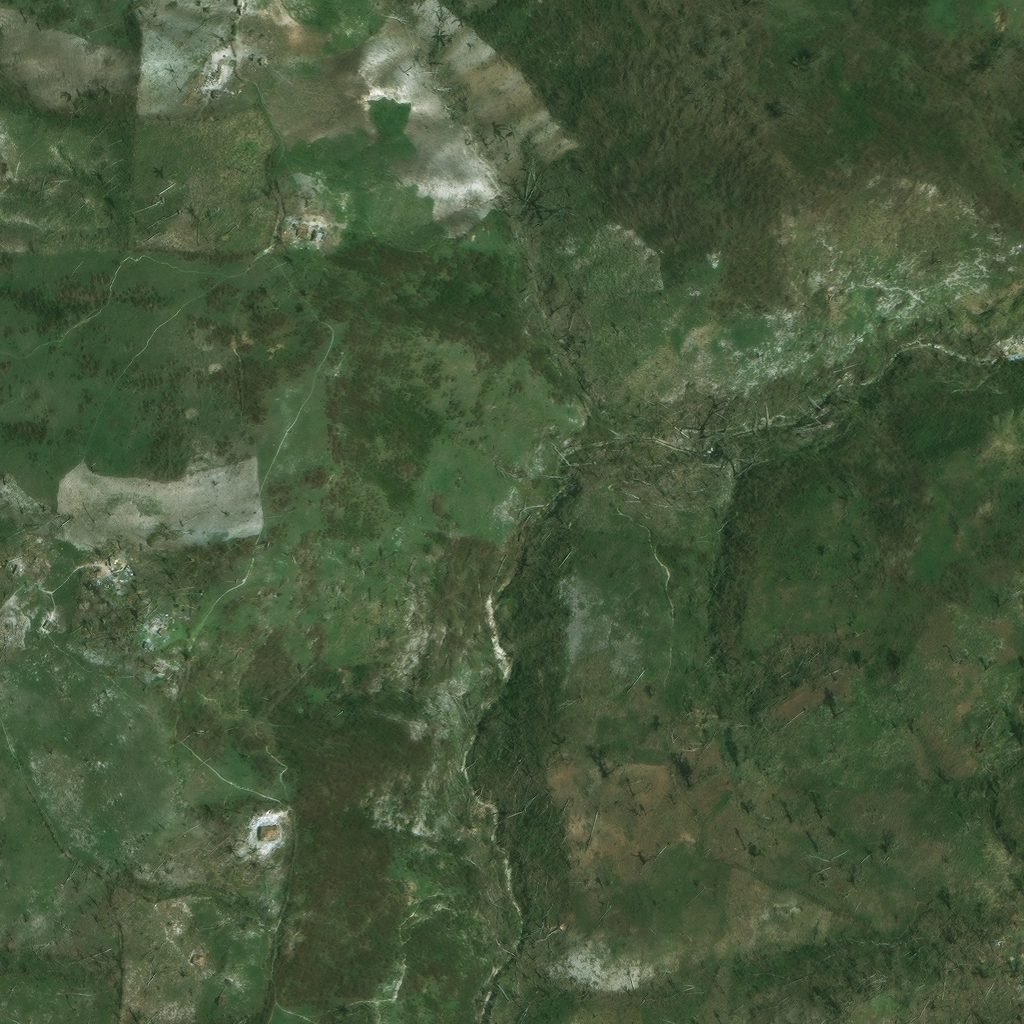destroyed: (43, 554, 61, 573), (202, 69, 216, 84), (43, 617, 56, 631), (130, 549, 142, 561)
major_damage: (137, 623, 156, 643), (241, 835, 257, 850), (281, 232, 291, 246)
unclassified: (779, 1010, 794, 1023)
